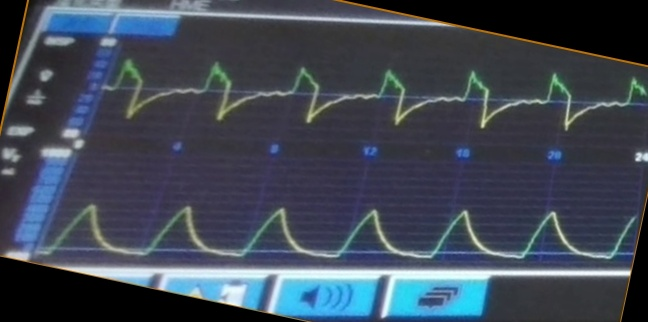Accumulation Flow: (116, 59, 614, 139)
Volume: (63, 188, 629, 263)
